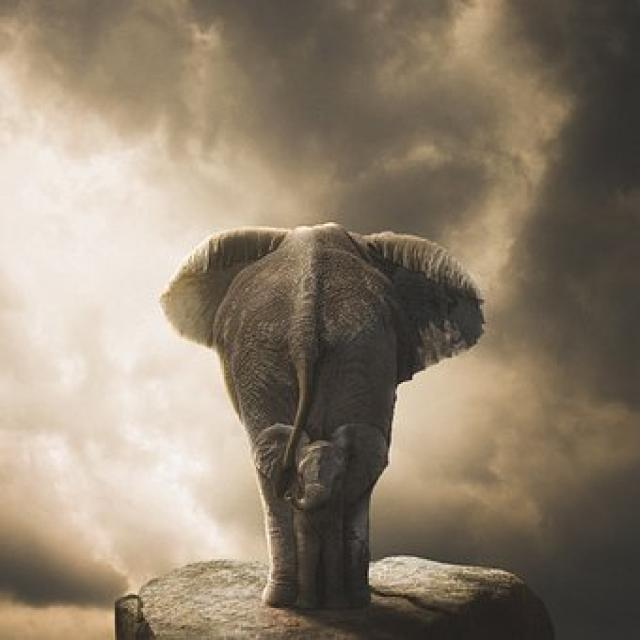Elephant: (129, 178, 479, 618)
